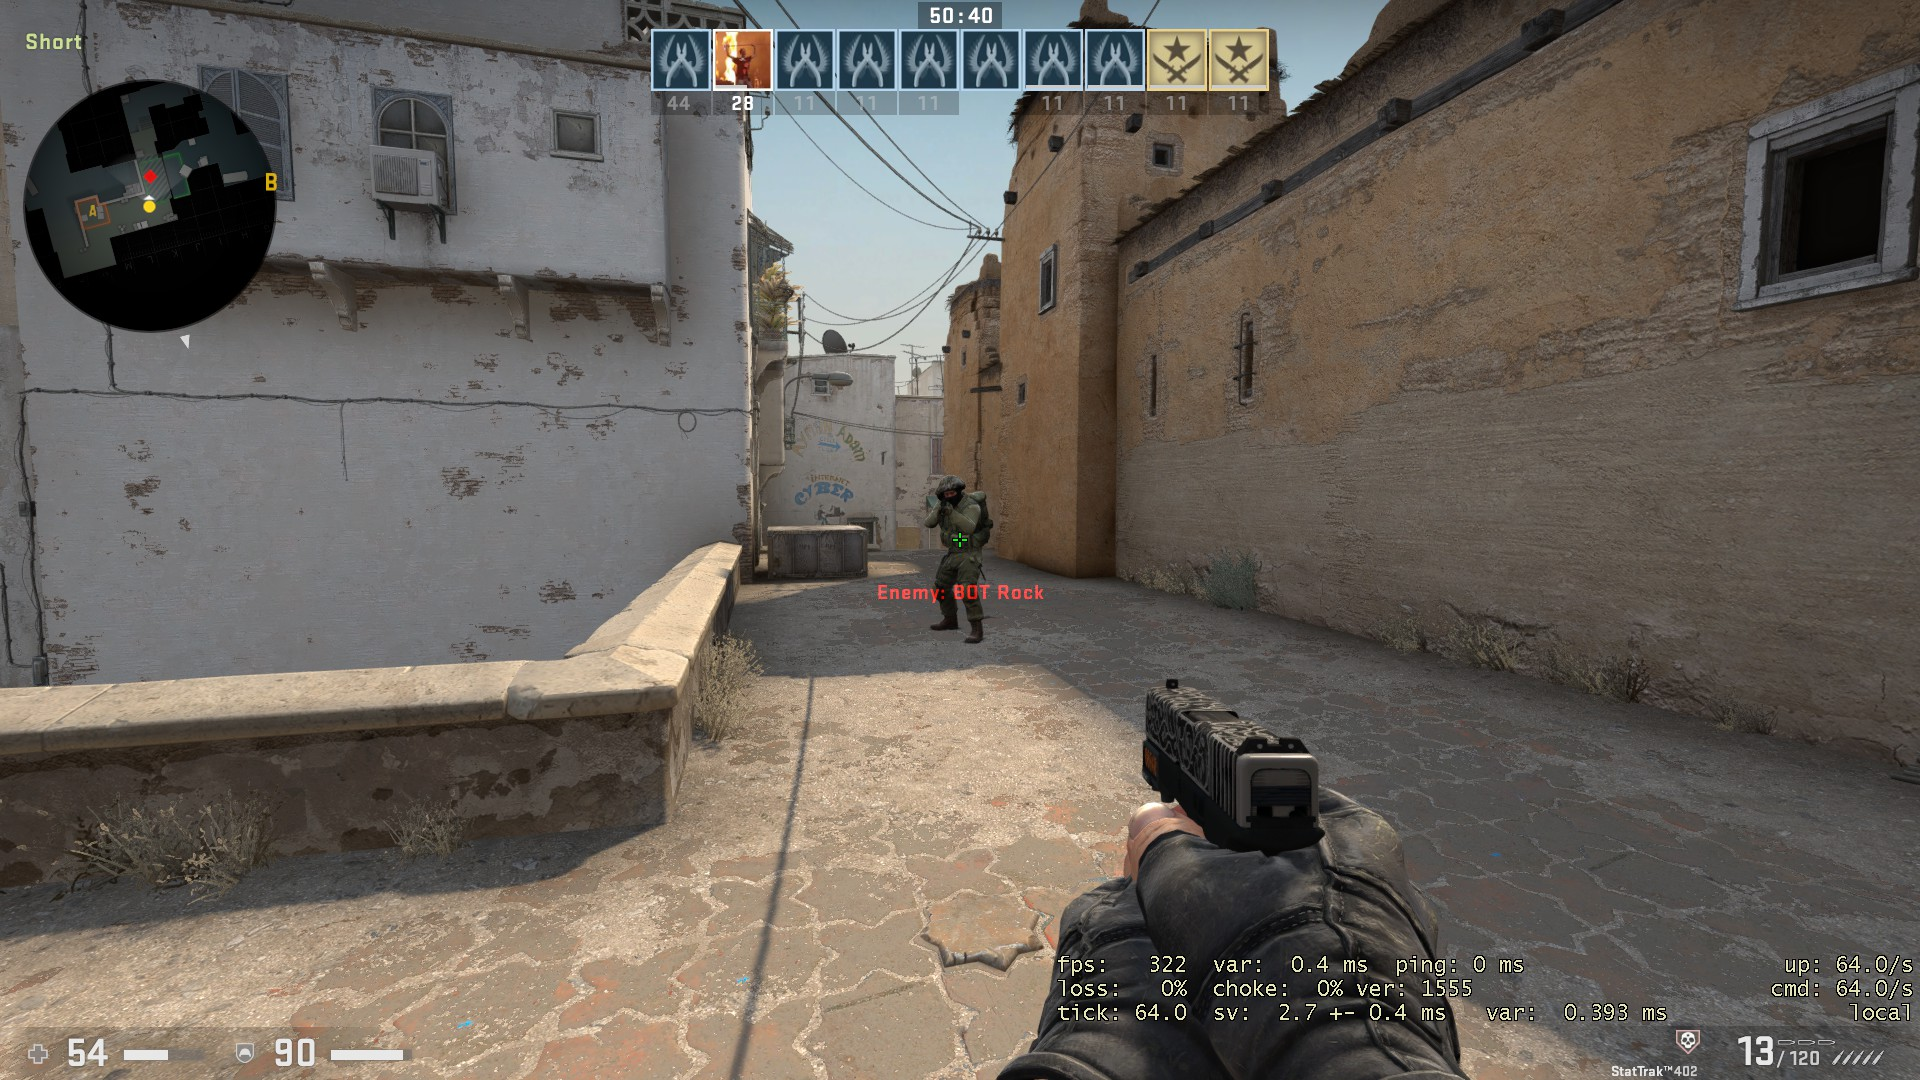player: (920, 471, 997, 646)
